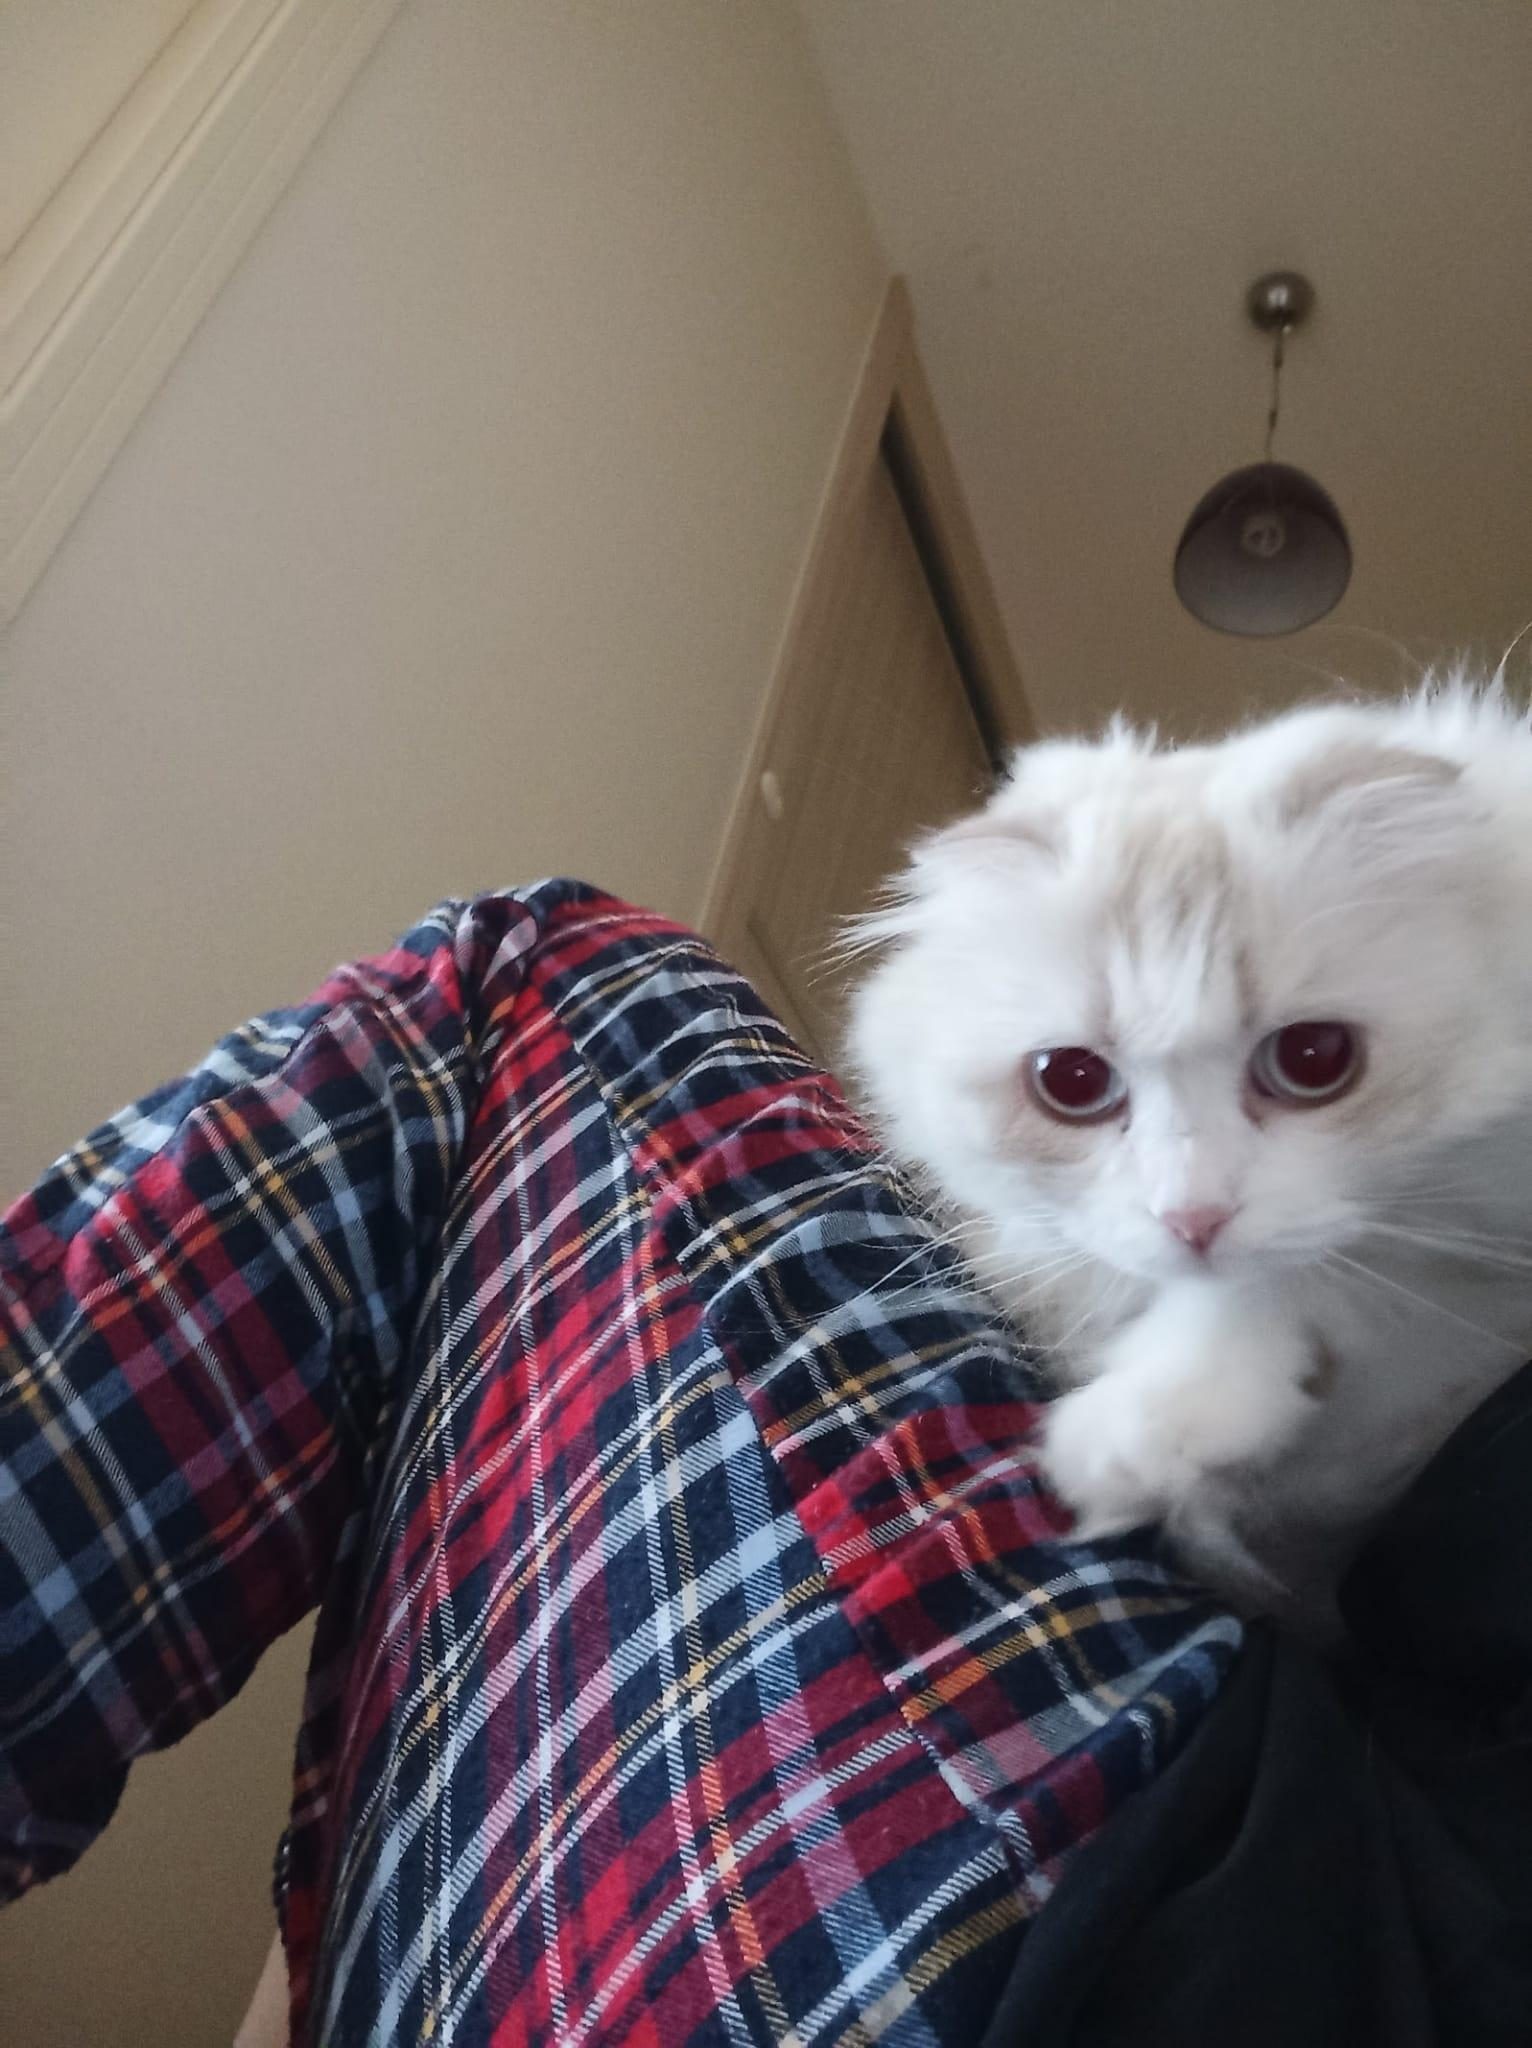kedo: (873, 687, 1532, 1514)
